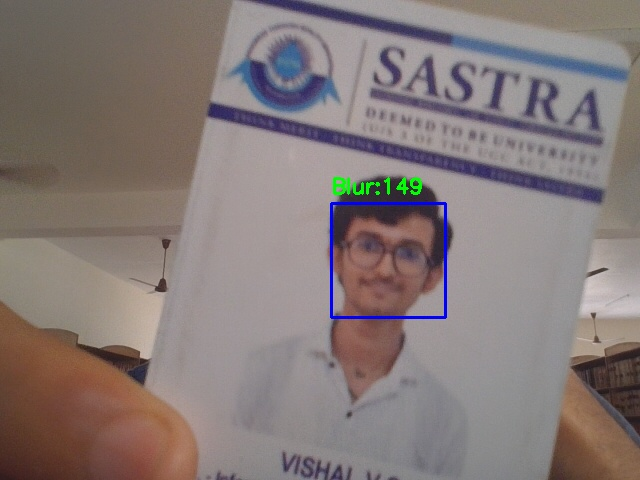fake: (331, 203, 445, 317)
